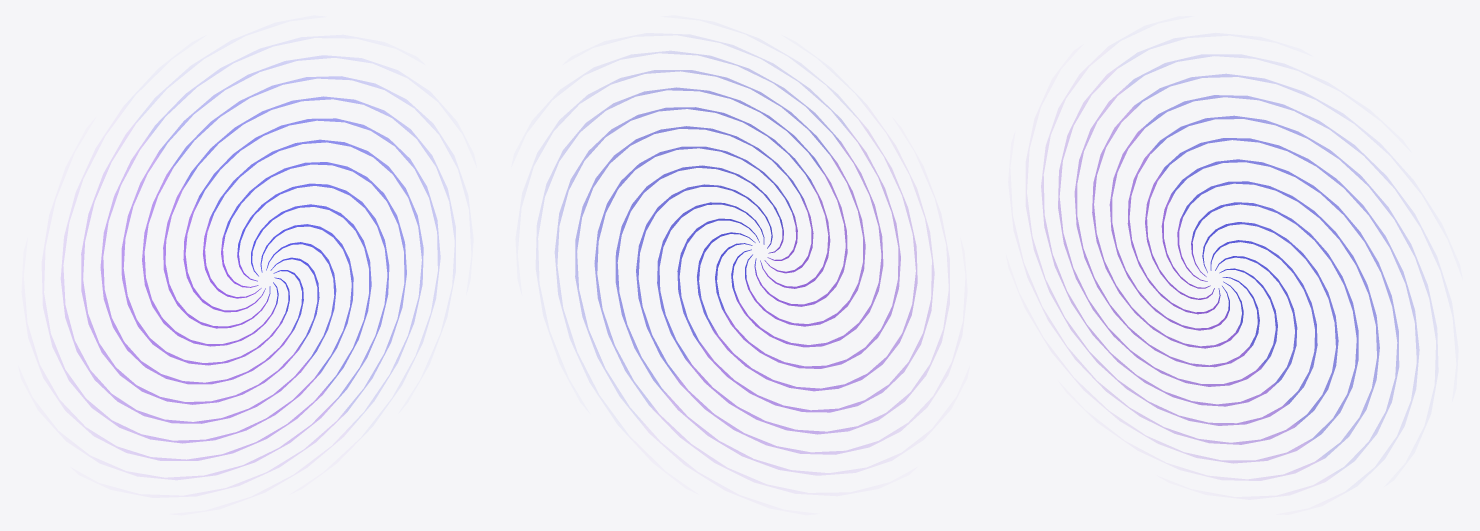
The model's file is espiralAzul.glb.
3 renders of one model, left to right at view 1: azimuth 30°, elevation 25°; view 2: azimuth 150°, elevation 25°; view 3: azimuth 330°, elevation 25°, orthographic.
Visible parts, largest first — view 1: espiral; view 2: espiral; view 3: espiral.
Boxes of the visible parts, x1=… form: espiral: x1=54, y1=56, x2=446, y2=478; espiral: x1=547, y1=51, x2=940, y2=474; espiral: x1=1035, y1=56, x2=1426, y2=479.
Size of the model in its own units: 49.89 by 49.89 by 3.55.
1 material, 1 textured.
